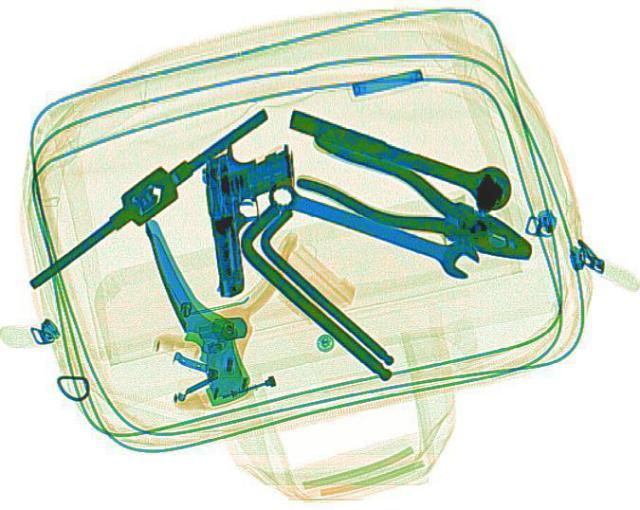Gun: (193, 138, 314, 296)
Pliers: (278, 127, 550, 279)
Wrench: (258, 170, 488, 280)
